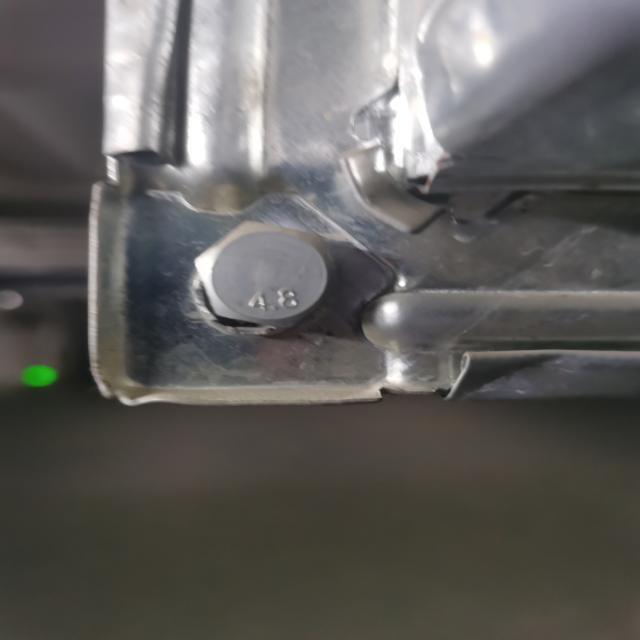bolt head: (183, 214, 346, 336)
